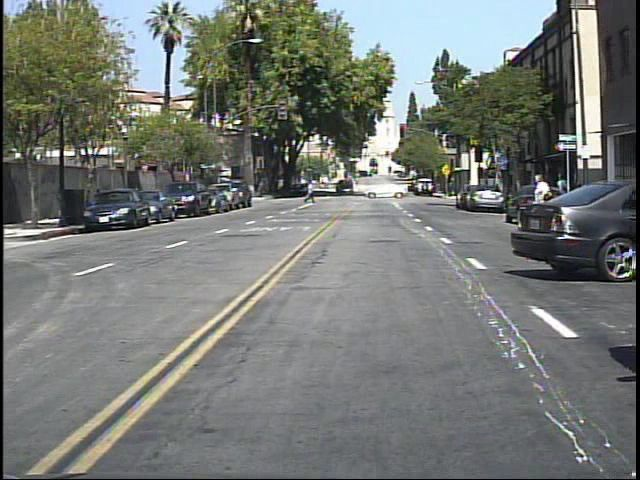person: (524, 167, 556, 245), (303, 176, 320, 208)
